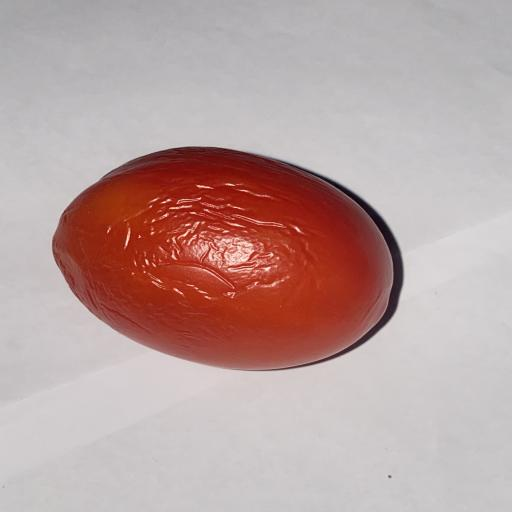spoiled: (53, 147, 393, 369)
